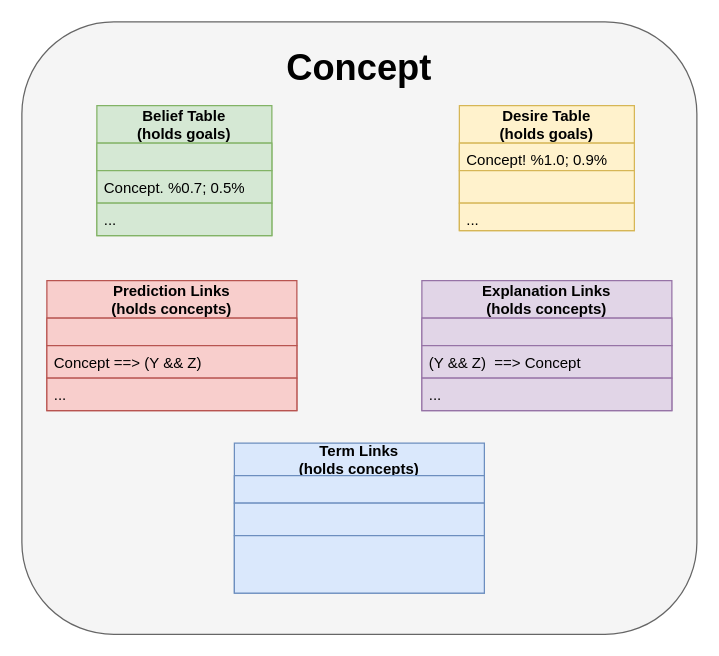
Image size: 719x656. Some labels were removed from this diagram. Here are the shapes that lost their labels. From the top down, the centre of each, then its label:
At [184,156]: "Concept. %1.0; 0.9%".
At [546,186]: "Concept! %0.0; 0.4%".
At [171,331]: "Concept ==> X".
At [546,331]: "X ==> Concept".
At [358,488]: "(--,Concept) ==> X".
At [358,519]: "Y ==> (Concept && Z)".
At [358,563]: "Concept --> A ....".
